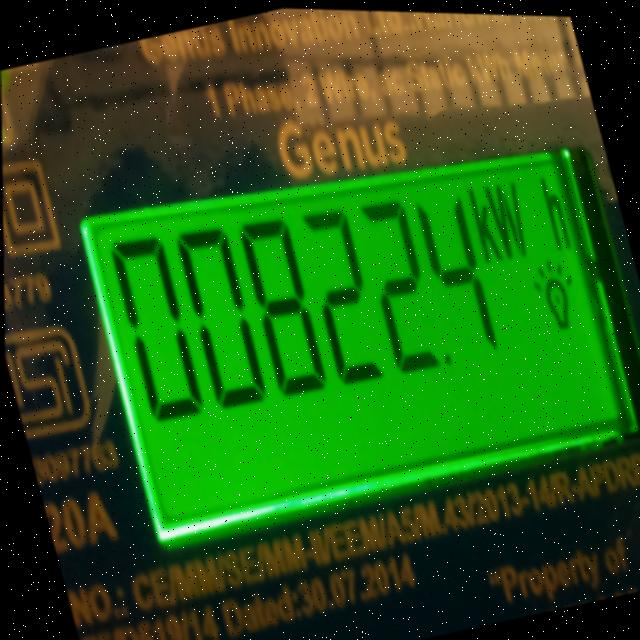.: (437, 345, 457, 374)
0: (165, 212, 279, 429), (99, 219, 213, 432)
2: (343, 176, 453, 392), (291, 189, 391, 395)
4: (409, 183, 507, 359)
8: (226, 198, 336, 409)
